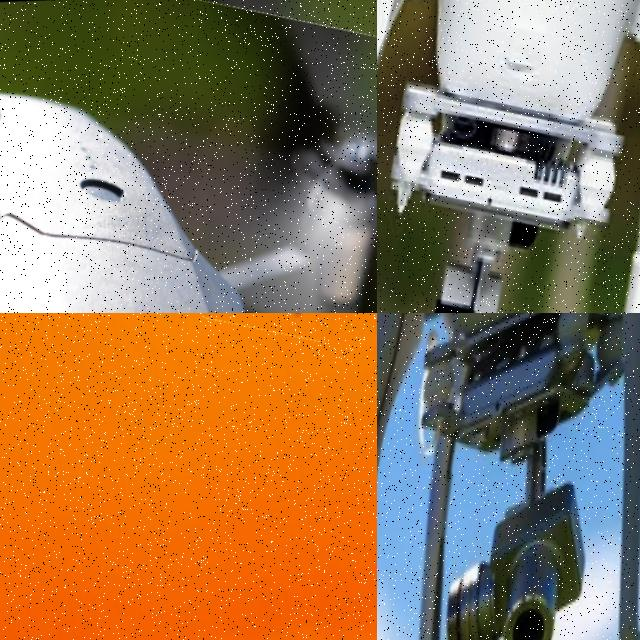drone: (0, 0, 377, 313), (377, 313, 640, 640), (377, 0, 640, 313), (198, 313, 377, 358)
